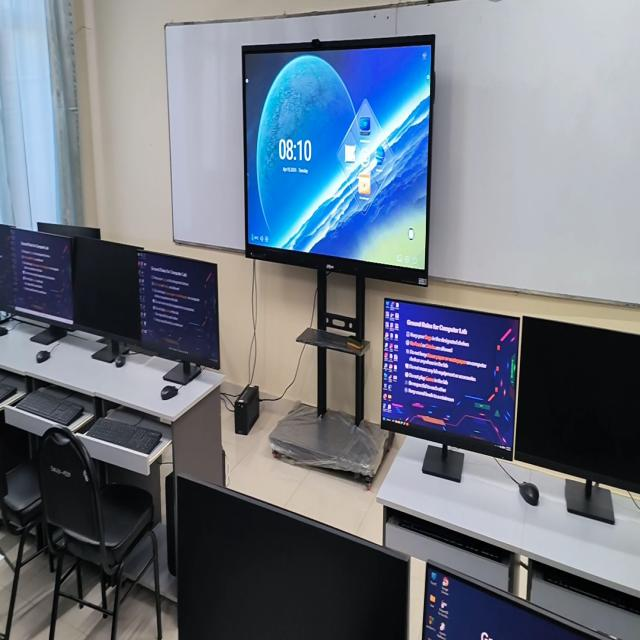Chair: (39, 425, 162, 639), (0, 440, 44, 639)
Cpu: (165, 472, 175, 575)
Digital board: (242, 35, 434, 482)
Keyboard: (386, 508, 511, 565), (536, 566, 640, 615), (87, 419, 162, 455), (14, 390, 84, 425), (0, 383, 16, 403)
Monitor: (177, 475, 409, 639), (514, 317, 640, 524), (381, 299, 520, 481), (422, 562, 600, 639), (137, 249, 219, 383), (69, 235, 141, 364), (8, 227, 74, 345), (0, 224, 15, 312), (38, 223, 100, 239)
Mouse: (518, 482, 539, 505), (161, 386, 178, 400), (36, 350, 50, 363), (115, 354, 126, 367), (0, 324, 8, 336)
